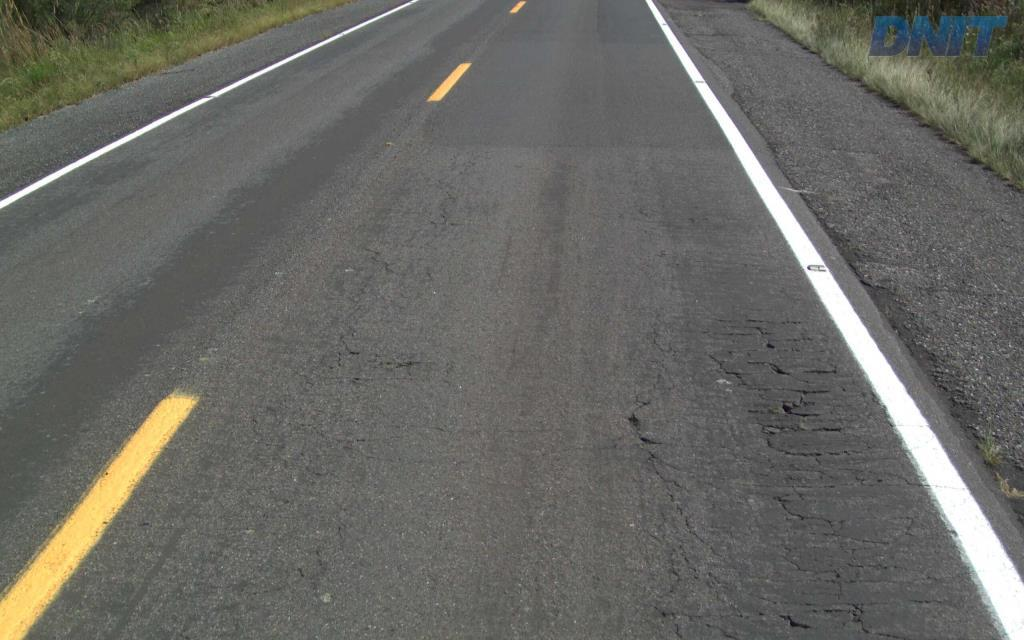crack: (747, 395, 822, 465), (822, 602, 870, 634)
